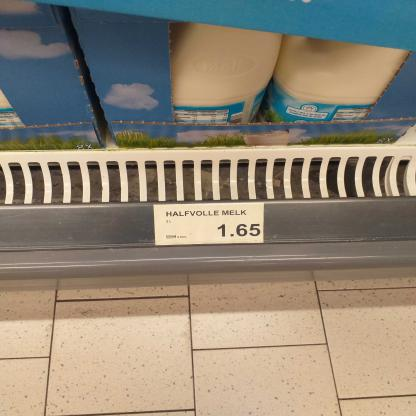prtg: (154, 204, 266, 246)
